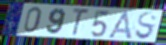0: (22, 6, 43, 35)
5: (89, 9, 113, 38)
9: (45, 7, 67, 36)
A: (106, 10, 133, 41)
S: (134, 11, 158, 41)
T: (71, 8, 91, 38)
